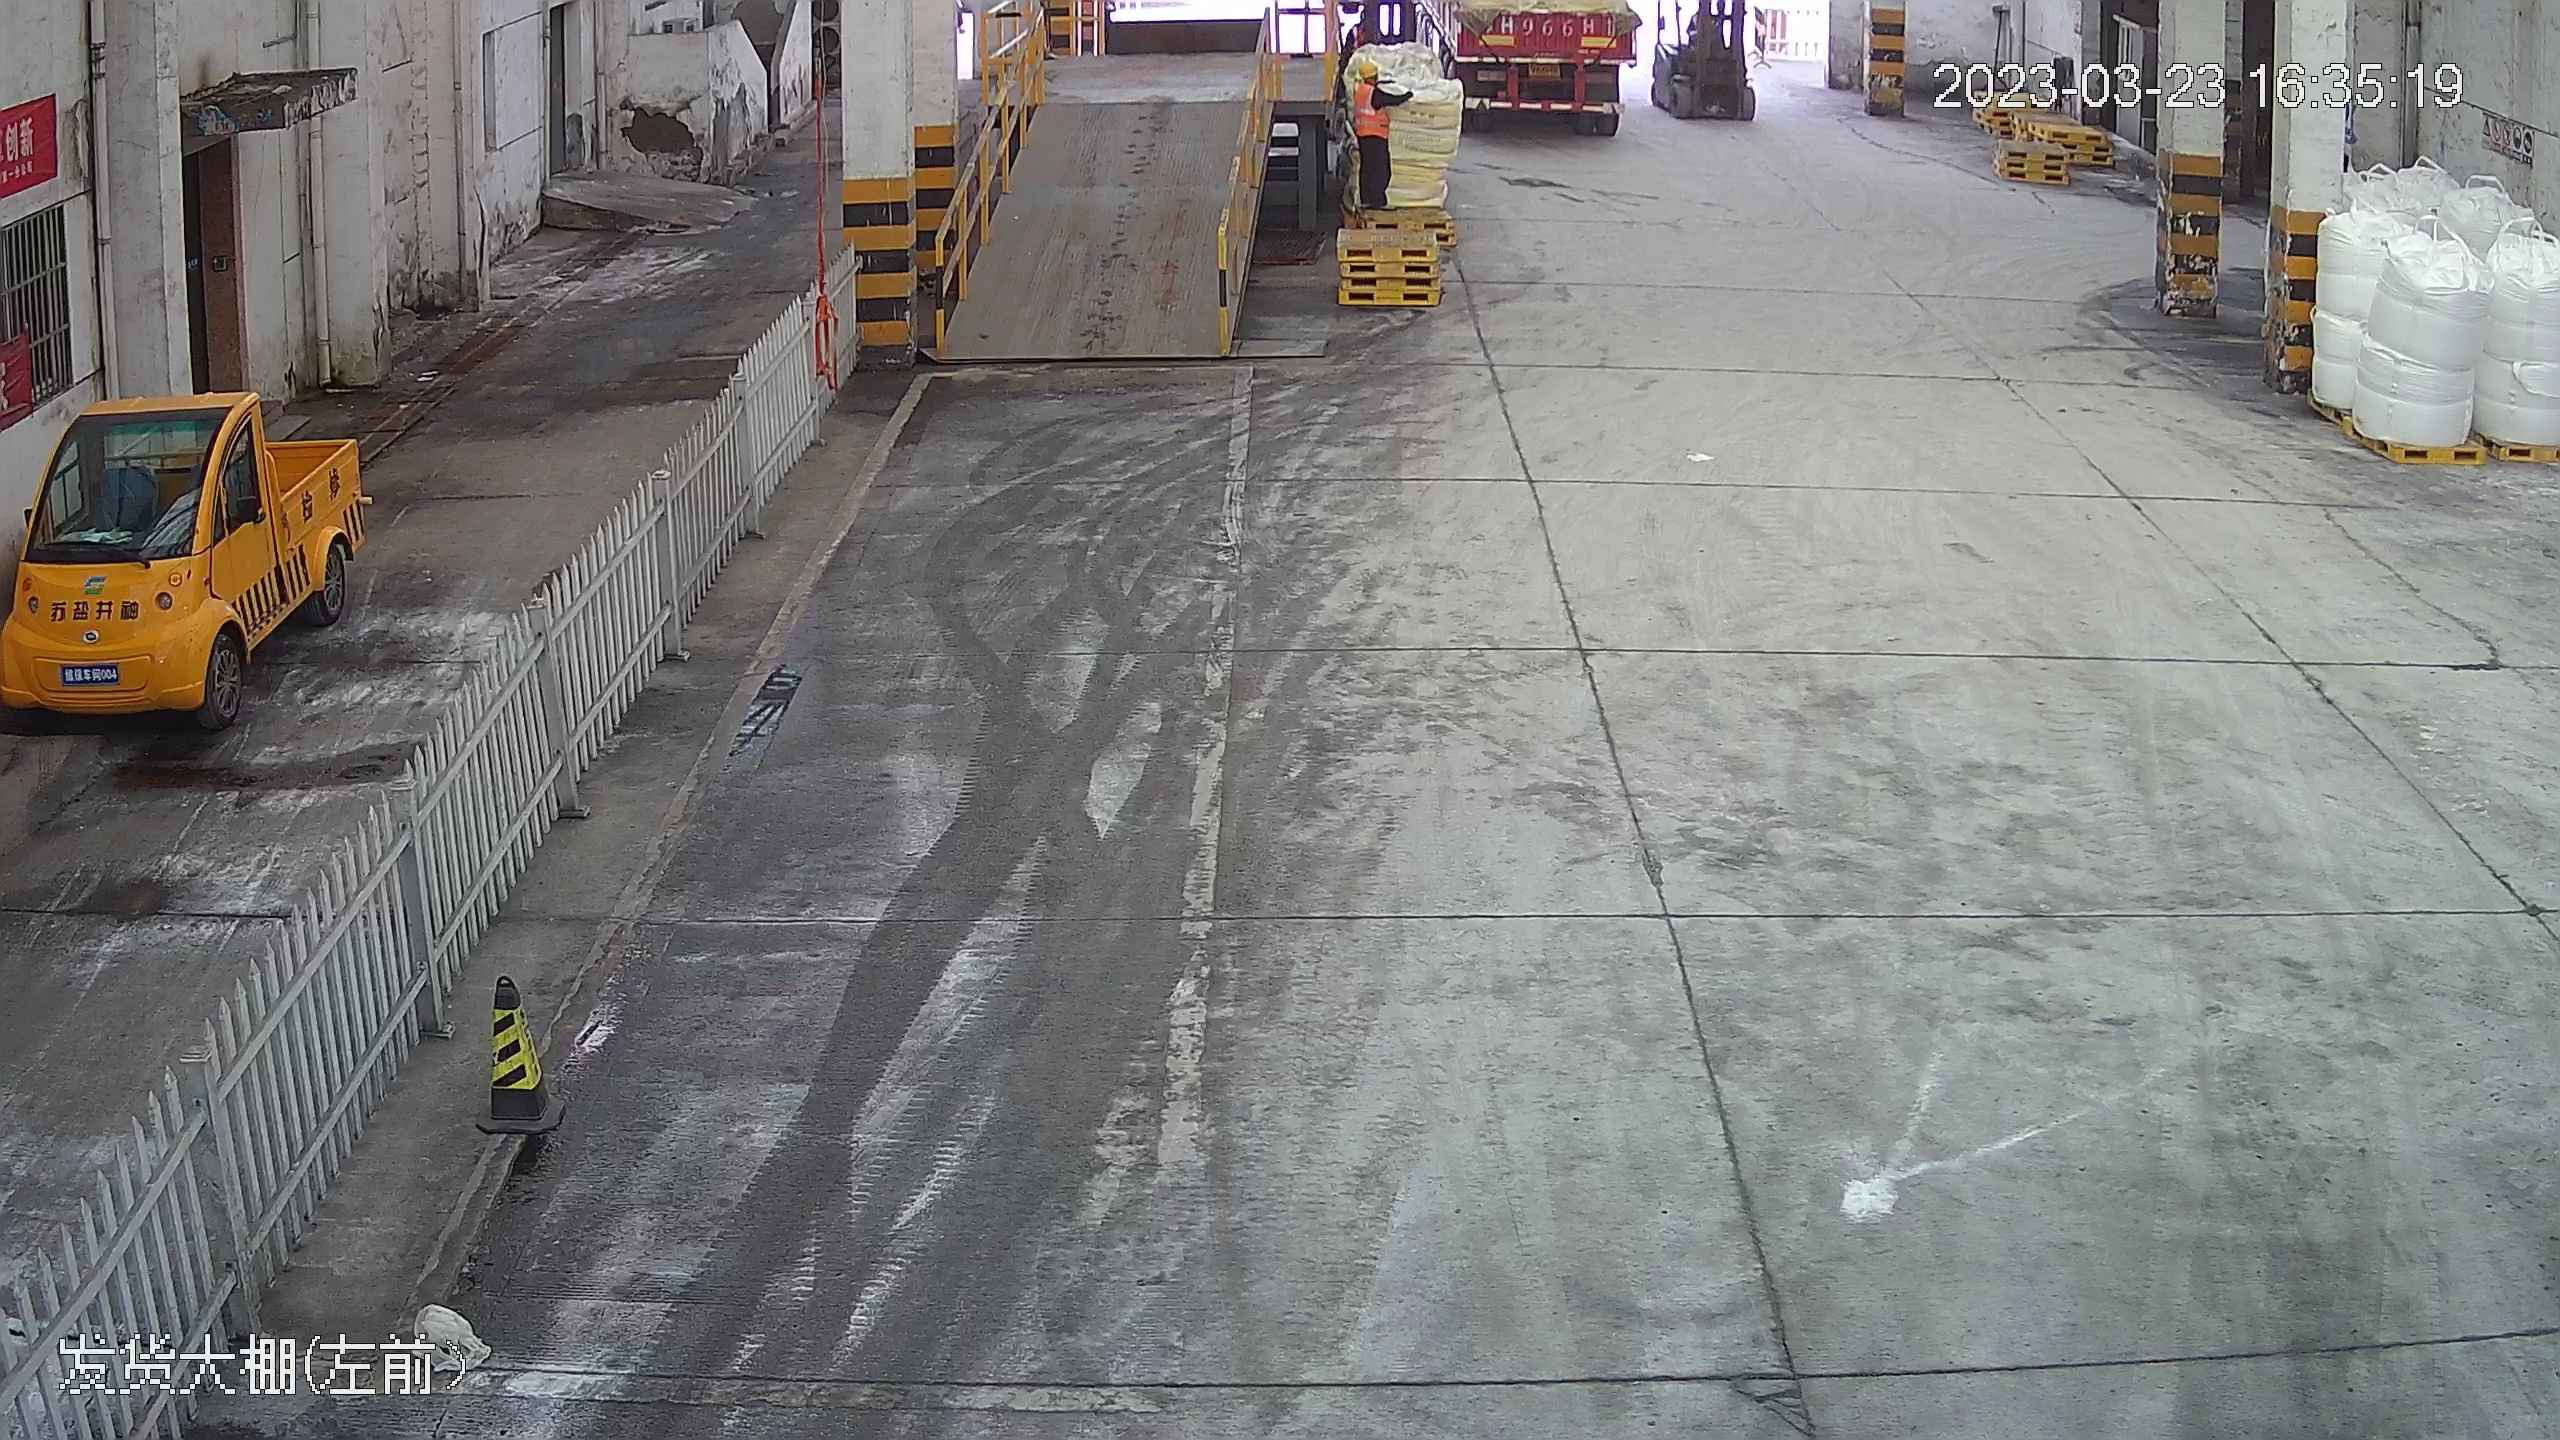head: (1348, 57, 1395, 112)
helmet: (1358, 60, 1381, 80)
people: (1346, 55, 1406, 216)
truck: (1438, 1, 1638, 127)
